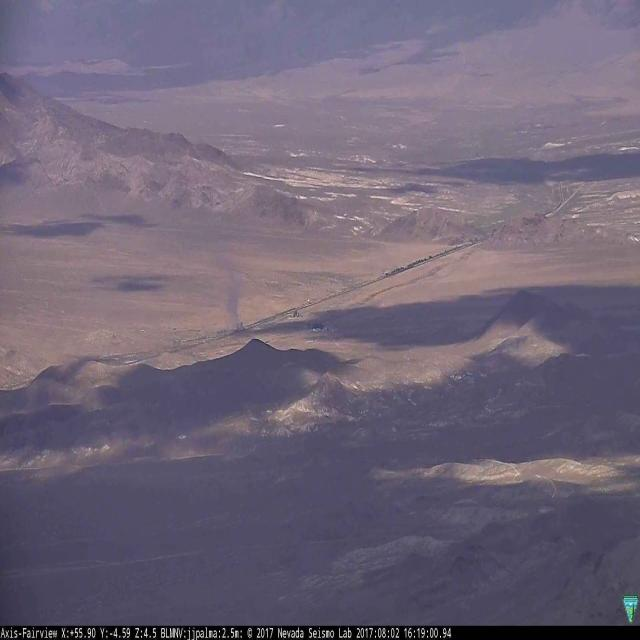smoke: (211, 244, 254, 340)
